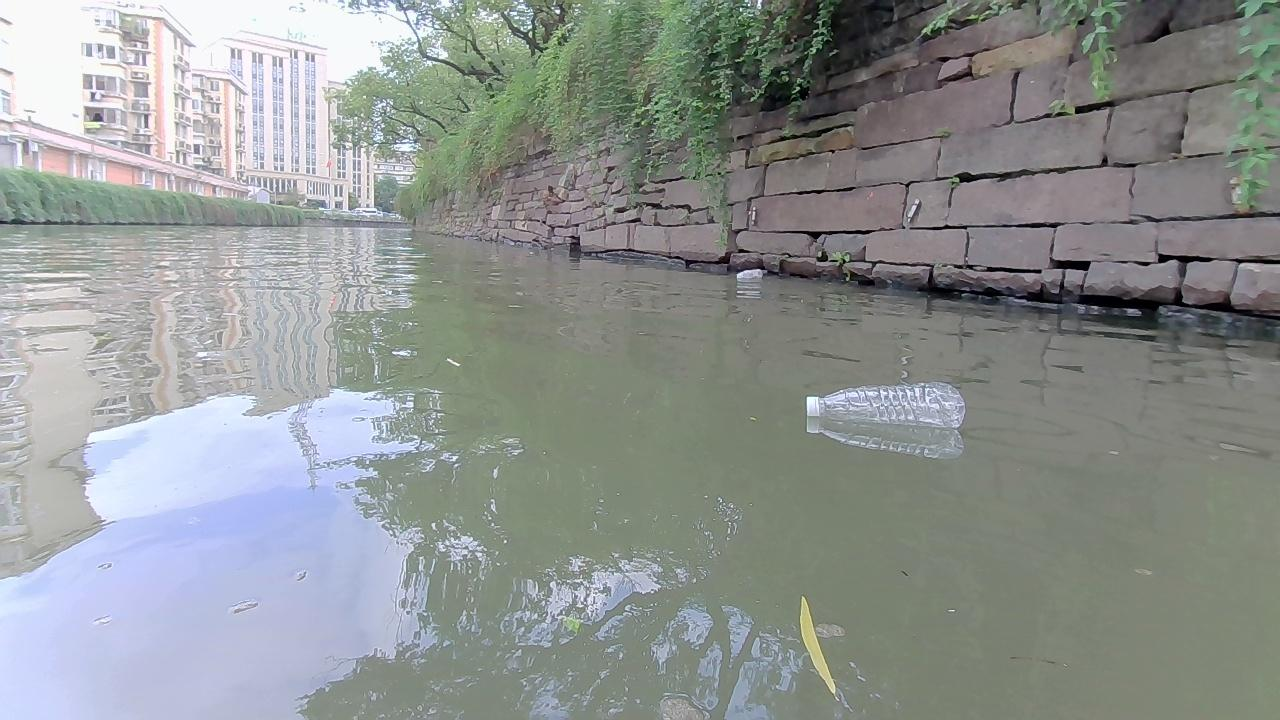bottle: (805, 381, 965, 424), (735, 268, 762, 280)
